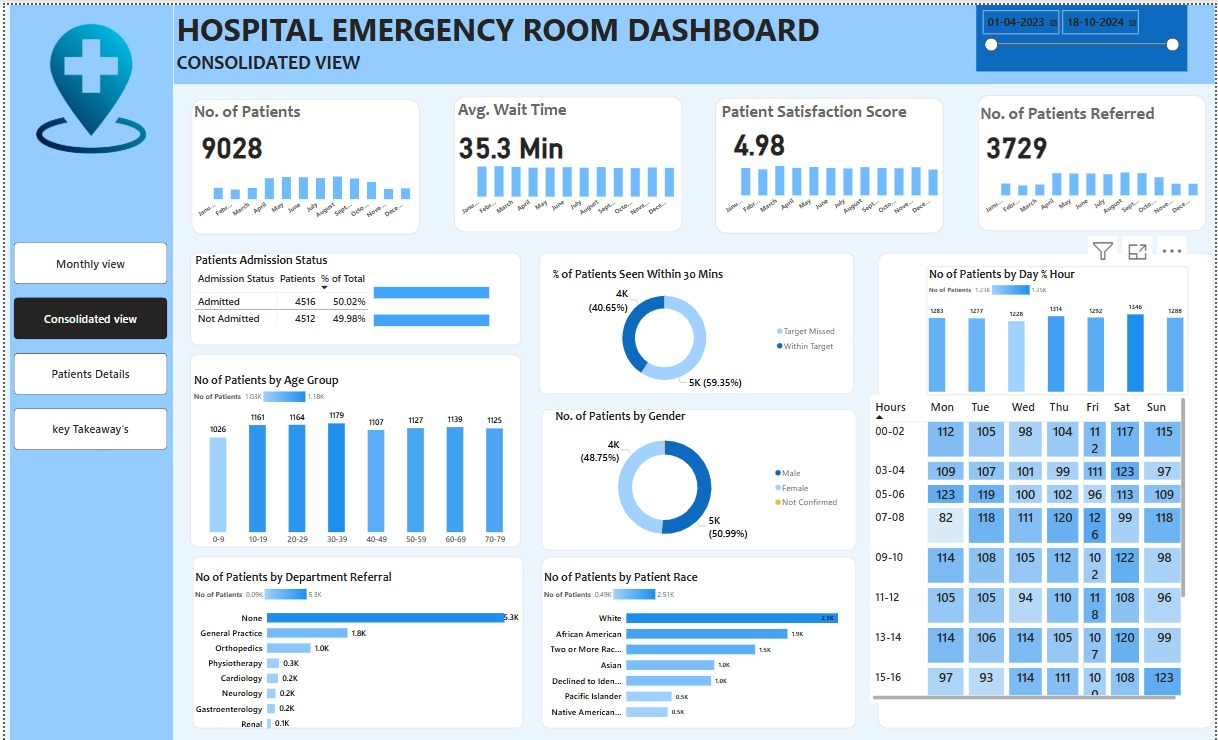

This screenshot's page, from the dashboard's own definition file:
{"tool":"powerbi","page":{"name":"Consolidated view","canvas":[2300,1400],"ordinal":1},"visuals":[{"type":"shape","box":[9.9,0,310,1400.5],"z":0},{"type":"shape","box":[320.5,0,1980,150.4],"z":1000},{"type":"textbox","box":[321,0,1324.4,92.7],"z":2000},{"type":"shape","box":[354.3,178.3,435,259.2],"z":3000},{"type":"textbox","box":[321,80.8,375.7,69],"z":4000},{"type":"card","fields":{"Values":["Hospital ER_Data.No of Patients"]},"box":[354.3,221.1,154.6,88],"z":5000},{"type":"slicer","fields":{"Values":["Date Table.Date"]},"box":[1847.5,0,401.8,126],"z":6000},{"type":"textbox","box":[354.3,178.3,285.3,69],"z":7000},{"type":"columnChart","fields":{"Category":["Date Table.Month Name"],"Y":["Hospital ER_Data.No of Patients"]},"box":[354.3,292.5,435.1,125],"z":8000},{"type":"shape","box":[852.8,173.6,435,259.2],"z":9000},{"type":"card","fields":{"Values":["Hospital ER_Data.Avg Wait Time"]},"box":[856,221.1,214,88],"z":10000},{"type":"textbox","box":[856,173.6,285.3,69],"z":11000},{"type":"columnChart","fields":{"Category":["Date Table.Month Name"],"Y":["Avg(Hospital ER_Data.Patient Waittime)"]},"box":[856,287.7,435.1,125],"z":12000},{"type":"shape","box":[1351.3,176,435.1,259.2],"z":13000},{"type":"card","fields":{"Values":["Hospital ER_Data.Satisfaction score"]},"box":[1357.7,216.4,154.6,88],"z":14000},{"type":"textbox","box":[1357.7,178.3,375.7,69],"z":15000},{"type":"columnChart","fields":{"Category":["Date Table.Month Name"],"Y":["Hospital ER_Data.Satisfaction score"]},"box":[1357.7,285.3,435.1,125],"z":16000},{"type":"shape","box":[1849.9,171.2,435.1,259.2],"z":17000},{"type":"card","fields":{"Values":["Hospital ER_Data.No of Patients referred"]},"box":[1847.5,221.1,154.6,88],"z":18000},{"type":"textbox","box":[1849.9,180.7,409,69],"z":19000},{"type":"columnChart","fields":{"Category":["Date Table.Month Name"],"Y":["Hospital ER_Data.No of Patients referred"]},"box":[1852.3,285.3,435.1,125],"z":20000},{"type":"shape","box":[351.9,470.8,630,177],"z":21000},{"type":"pivotTable","title":"Patients Admission Status","fields":{"Rows":["Hospital ER_Data.Admission Status"],"Values":["Hospital ER_Data.No of Patients1","Hospital ER_Data.No of Patients"]},"box":[356.7,470.8,606.3,176],"z":22000},{"type":"barChart","fields":{"Category":["Hospital ER_Data.Admission Status"],"Y":["Hospital ER_Data.No of Patients"]},"box":[696.7,496.9,302,149.8],"z":23000},{"type":"shape","box":[351.9,663.4,630.1,368.5],"z":24000},{"type":"clusteredColumnChart","fields":{"Category":["Hospital ER_Data.Age Group"],"Y":["Hospital ER_Data.No of Patients"]},"box":[354.3,699.1,630.1,337.6],"z":25000},{"type":"shape","box":[356.7,1048.6,630.1,328.1],"z":26000},{"type":"clusteredBarChart","fields":{"Category":["Hospital ER_Data.Department Referral"],"Y":["Hospital ER_Data.No of Patients"]},"box":[356.7,1074.7,625.3,318.6],"z":27000},{"type":"shape","box":[1015.3,470.8,600,270],"z":28000},{"type":"donutChart","title":"% of Patients Seen Within 30 Mins","fields":{"Category":["Hospital ER_Data.Waittime Status"],"Y":["Hospital ER_Data.No of Patients"]},"box":[1036.7,496.9,556.4,244.9],"z":29000},{"type":"shape","box":[1019.6,768,600,270],"z":30000},{"type":"donutChart","title":"No. of Patients by Gender","fields":{"Y":["Hospital ER_Data.No of Patients"],"Category":["Hospital ER_Data.Patient Gender"]},"box":[1041,768,556.4,271.1],"z":31000},{"type":"shape","box":[1020,1048.6,599.2,328.1],"z":32000},{"type":"shape","box":[1659.7,470.8,639.6,905.9],"z":33000},{"type":"clusteredBarChart","fields":{"Y":["Hospital ER_Data.No of Patients"],"Category":["Hospital ER_Data.Patient Race"]},"box":[1020,1074.7,594.4,297.2],"z":34000},{"type":"pivotTable","fields":{"Rows":["Hospital ER_Data.Waittime Interval"],"Columns":["Date Table.Day Name"],"Values":["Hospital ER_Data.No of Patients"]},"box":[1645.4,741.9,605,585],"z":35000},{"type":"columnChart","title":"No of Patients by Day % Hour","fields":{"Category":["Date Table.Day Name"],"Y":["Hospital ER_Data.No of Patients"]},"box":[1752.4,496.9,496.9,244.9],"z":36000},{"type":"image","box":[35.7,30.9,256.8,256.8],"z":37000},{"type":"pageNavigator","box":[16.6,451.8,292.5,397.1],"z":38000}]}

Visuals, with their boxes in screenshot pixels (x1, y1, x2, y2), scaled from the page's 2300x1400 canvas onto the 1218x740 screenshot:
shape: <box>5,0,169,739</box>
shape: <box>170,0,1217,79</box>
textbox: <box>170,0,871,49</box>
shape: <box>188,94,418,231</box>
textbox: <box>170,43,369,79</box>
card - Hospital ER_Data.No of Patients: <box>188,117,269,163</box>
slicer - Date Table.Date: <box>978,0,1191,67</box>
textbox: <box>188,94,339,131</box>
columnChart - Date Table.Month Name x Hospital ER_Data.No of Patients: <box>188,155,418,221</box>
shape: <box>452,92,682,229</box>
card - Hospital ER_Data.Avg Wait Time: <box>453,117,567,163</box>
textbox: <box>453,92,604,128</box>
columnChart - Date Table.Month Name x Avg(Hospital ER_Data.Patient Waittime): <box>453,152,684,218</box>
shape: <box>716,93,946,230</box>
card - Hospital ER_Data.Satisfaction score: <box>719,114,801,161</box>
textbox: <box>719,94,918,131</box>
columnChart - Date Table.Month Name x Hospital ER_Data.Satisfaction score: <box>719,151,949,217</box>
shape: <box>980,90,1210,227</box>
card - Hospital ER_Data.No of Patients referred: <box>978,117,1060,163</box>
textbox: <box>980,96,1196,132</box>
columnChart - Date Table.Month Name x Hospital ER_Data.No of Patients referred: <box>981,151,1211,217</box>
shape: <box>186,249,520,342</box>
"Patients Admission Status" pivotTable: <box>189,249,510,342</box>
barChart - Hospital ER_Data.Admission Status x Hospital ER_Data.No of Patients: <box>369,263,529,342</box>
shape: <box>186,351,520,545</box>
clusteredColumnChart - Hospital ER_Data.Age Group x Hospital ER_Data.No of Patients: <box>188,370,521,548</box>
shape: <box>189,554,523,728</box>
clusteredBarChart - Hospital ER_Data.Department Referral x Hospital ER_Data.No of Patients: <box>189,568,520,736</box>
shape: <box>538,249,855,392</box>
"% of Patients Seen Within 30 Mins" donutChart: <box>549,263,844,392</box>
shape: <box>540,406,858,549</box>
"No. of Patients by Gender" donutChart: <box>551,406,846,549</box>
shape: <box>540,554,857,728</box>
shape: <box>879,249,1217,728</box>
clusteredBarChart - Hospital ER_Data.No of Patients x Hospital ER_Data.Patient Race: <box>540,568,855,725</box>
pivotTable - Hospital ER_Data.Waittime Interval x Date Table.Day Name: <box>871,392,1192,701</box>
"No of Patients by Day % Hour" columnChart: <box>928,263,1191,392</box>
image: <box>19,16,155,152</box>
pageNavigator: <box>9,239,164,449</box>
